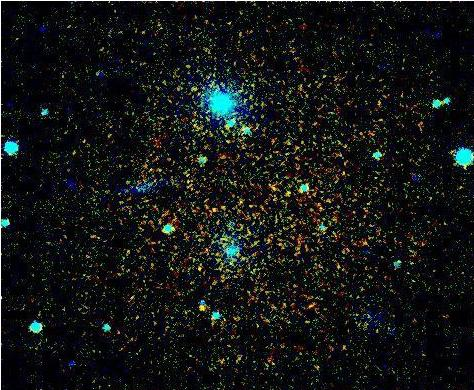star: (187, 294, 217, 324)
